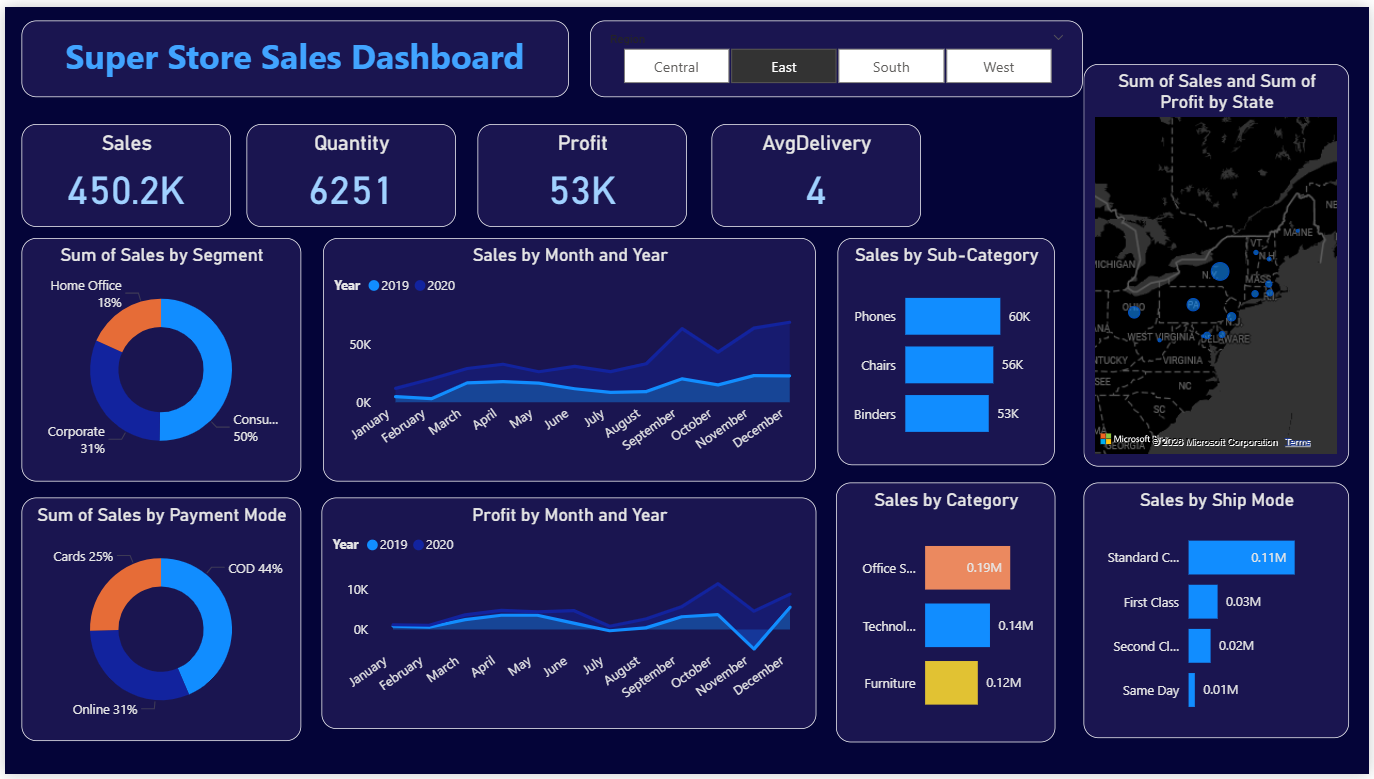

This screenshot's page, from the dashboard's own definition file:
{"tool":"powerbi","page":{"name":"Page 1","canvas":[1280,720],"ordinal":0},"visuals":[{"type":"clusteredBarChart","title":"Sales by Category","fields":{"Category":["SuperStore_Sales_Dataset.Category"],"Y":["Sum(SuperStore_Sales_Dataset.Sales)"]},"box":[780.5,446,206,243.8],"z":0},{"type":"clusteredBarChart","title":"Sales by Sub-Category","fields":{"Category":["SuperStore_Sales_Dataset.Sub-Category"],"Y":["Sum(SuperStore_Sales_Dataset.Sales)"]},"box":[782.4,217.3,204.1,213.5],"z":1000},{"type":"clusteredBarChart","title":"Sales by Ship Mode","fields":{"Category":["SuperStore_Sales_Dataset.Ship Mode"],"Y":["Sum(SuperStore_Sales_Dataset.Sales)"]},"box":[1012.9,446,249.5,240],"z":2000},{"type":"stackedAreaChart","title":"Sales by Month and Year","fields":{"Y":["Sum(SuperStore_Sales_Dataset.Sales)"],"Category":["SuperStore_Sales_Dataset.Order Date.Variation.Date Hierarchy.Month","SuperStore_Sales_Dataset.Order Date.Variation.Date Hierarchy.Day"],"Series":["SuperStore_Sales_Dataset.Order Date.Variation.Date Hierarchy.Year"]},"box":[298.6,217.3,463,228.7],"z":3000},{"type":"stackedAreaChart","title":"Profit by Month and Year","fields":{"Category":["SuperStore_Sales_Dataset.Order Date.Variation.Date Hierarchy.Month","SuperStore_Sales_Dataset.Order Date.Variation.Date Hierarchy.Day"],"Series":["SuperStore_Sales_Dataset.Order Date.Variation.Date Hierarchy.Year"],"Y":["Sum(SuperStore_Sales_Dataset.Profit)"]},"box":[296.7,461.1,464.9,217.3],"z":4000},{"type":"map","fields":{"Category":["SuperStore_Sales_Dataset.State"],"Size":["Sum(SuperStore_Sales_Dataset.Sales)"]},"box":[1012.9,52.9,249.5,378],"z":5000},{"type":"donutChart","fields":{"Category":["SuperStore_Sales_Dataset.Segment"],"Y":["Sum(SuperStore_Sales_Dataset.Sales)"]},"box":[15.1,217.3,262.7,228.7],"z":6000},{"type":"donutChart","fields":{"Category":["SuperStore_Sales_Dataset.Payment Mode"],"Y":["Sum(SuperStore_Sales_Dataset.Sales)"]},"box":[15.1,461.1,262.7,228.7],"z":7000},{"type":"textbox","box":[15.1,13.2,514,71.8],"z":8000},{"type":"slicer","fields":{"Values":["SuperStore_Sales_Dataset.Region"]},"box":[549.9,13.2,463,71.8],"z":9000},{"type":"card","title":"Sales","fields":{"Values":["Sum(SuperStore_Sales_Dataset.Sales)"]},"box":[15.1,109.6,196.5,96.4],"z":10000},{"type":"card","title":"Quantity","fields":{"Values":["Sum(SuperStore_Sales_Dataset.Quantity)"]},"box":[226.8,109.6,196.5,96.4],"z":11000},{"type":"card","title":"Profit","fields":{"Values":["Sum(SuperStore_Sales_Dataset.Profit)"]},"box":[444.1,109.6,196.5,96.4],"z":12000},{"type":"card","title":"AvgDelivery","fields":{"Values":["Avg(SuperStore_Sales_Dataset.AvgDelivery)"]},"box":[663.3,109.6,196.5,96.4],"z":13000}]}

Visuals, with their boxes in screenshot pixels (x1, y1, x2, y2), scaled from the page's 1280x720 canvas onto the 1374x779 screenshot:
"Sales by Category" clusteredBarChart: Rect(838, 483, 1059, 746)
"Sales by Sub-Category" clusteredBarChart: Rect(840, 235, 1059, 466)
"Sales by Ship Mode" clusteredBarChart: Rect(1087, 483, 1355, 742)
"Sales by Month and Year" stackedAreaChart: Rect(321, 235, 818, 483)
"Profit by Month and Year" stackedAreaChart: Rect(318, 499, 818, 734)
map - SuperStore_Sales_Dataset.State x Sum(SuperStore_Sales_Dataset.Sales): Rect(1087, 57, 1355, 466)
donutChart - SuperStore_Sales_Dataset.Segment x Sum(SuperStore_Sales_Dataset.Sales): Rect(16, 235, 298, 483)
donutChart - SuperStore_Sales_Dataset.Payment Mode x Sum(SuperStore_Sales_Dataset.Sales): Rect(16, 499, 298, 746)
textbox: Rect(16, 14, 568, 92)
slicer - SuperStore_Sales_Dataset.Region: Rect(590, 14, 1087, 92)
"Sales" card: Rect(16, 119, 227, 223)
"Quantity" card: Rect(243, 119, 454, 223)
"Profit" card: Rect(477, 119, 688, 223)
"AvgDelivery" card: Rect(712, 119, 923, 223)
